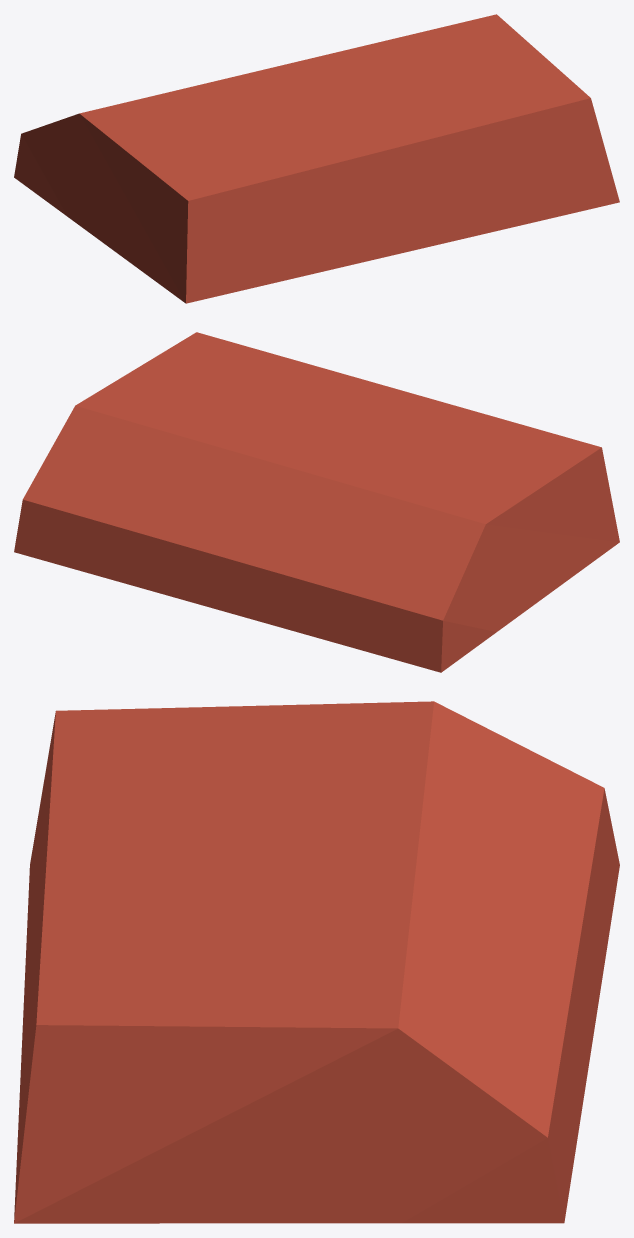
Rendered from salmonFillet.001.fbx.
3 views of the same model, one above another, from view 1: azimuth 30°, elevation 25°; view 2: azimuth 150°, elevation 25°; view 3: azimuth 270°, elevation 25° (orthographic). The views are drawn at different scales.
Visible parts, largest first — view 1: salmonFillet.001; view 2: salmonFillet.001; view 3: salmonFillet.001.
Part boxes in pixels (left/top/right/bottom): salmonFillet.001: left=14, top=14, right=619, bottom=303; salmonFillet.001: left=14, top=332, right=619, bottom=672; salmonFillet.001: left=14, top=701, right=619, bottom=1223.
Bounding box in the file's own units: 20.39 × 4.93 × 14.56.
Materials: 1 (1 with a texture image).
